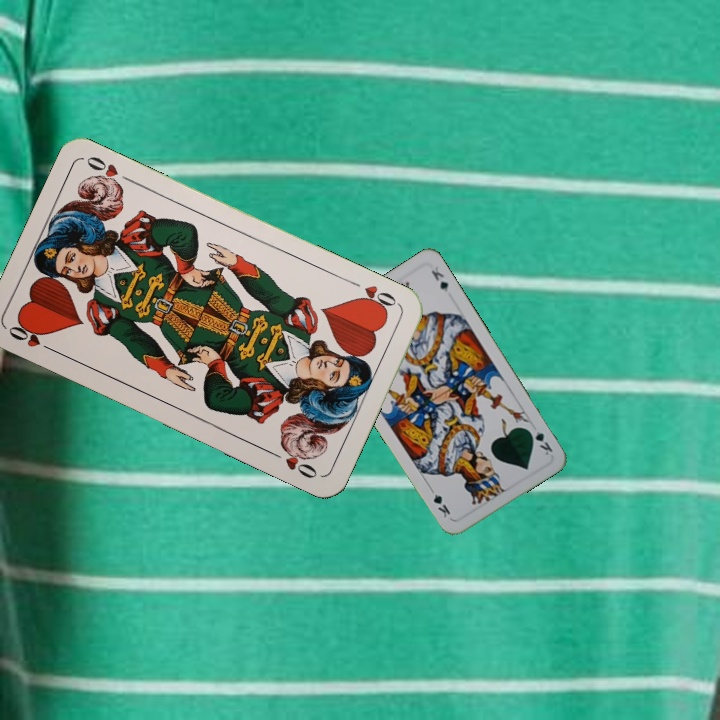GK: (524, 424, 555, 458)
HO: (345, 276, 401, 315), (4, 319, 59, 356)
